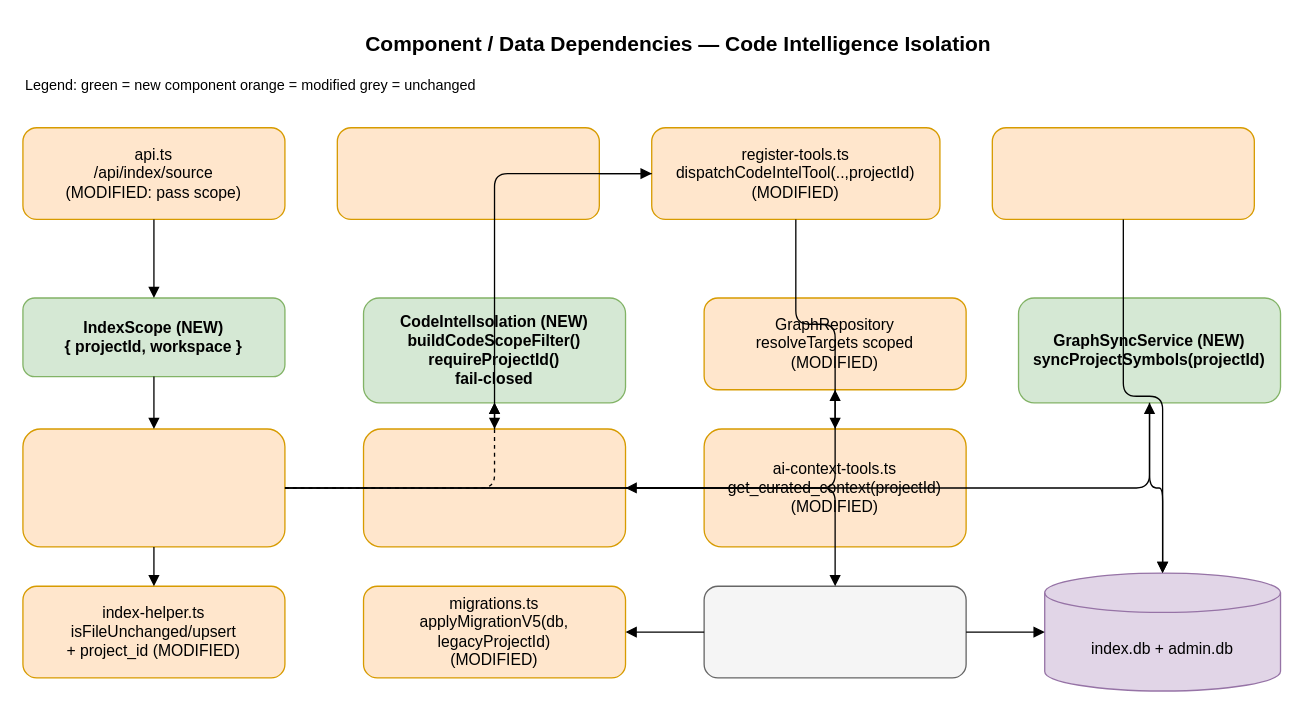
This 1303x714 diagram has some shape labels left out. Here are the shapes that lost their labels. From the top down, the centre of each, then its label:
At [467,172]: "CodeIntelModule (MODIFIED: extract __projectId)".
At [1122,172]: "kb-graph-spatial.ts codeCount(project_id) (MODIFIED)".
At [153,487]: "IndexingEngine runFullIndex(scope) per-project guard (MODIFIED)".
At [494,487]: "QueryLayer all methods take projectId (MODIFIED)".
At [834,631]: "DatabaseManager sharedDb (UNCHANGED) + pass projectId to migrations".
